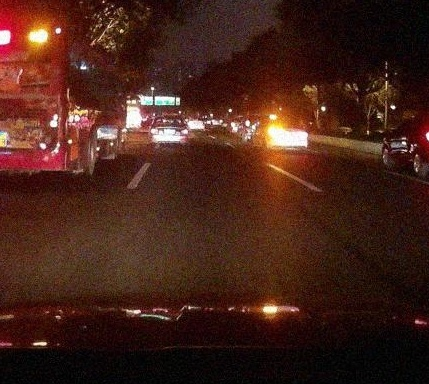L_light: (150, 129, 158, 134), (268, 129, 278, 133)
R_light: (179, 129, 188, 134), (298, 130, 307, 134)
T_light: (165, 117, 173, 120), (285, 120, 292, 122)
night-left: (265, 118, 308, 151)
night-no: (148, 114, 189, 146)
